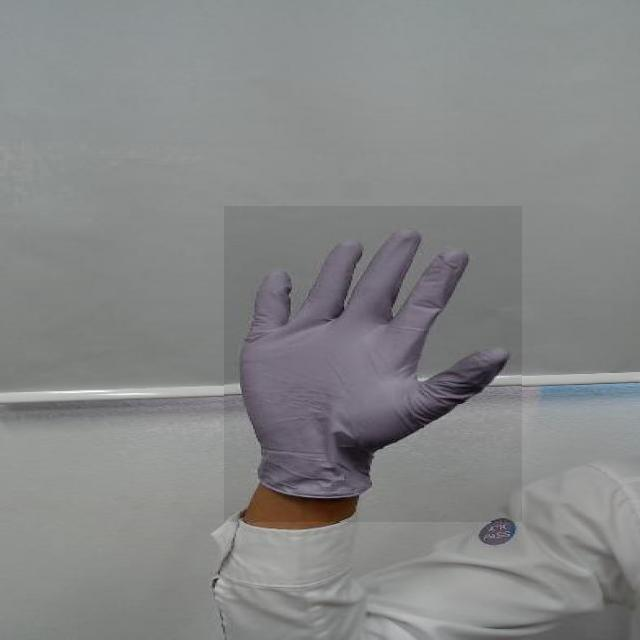apron: (225, 207, 523, 523)
